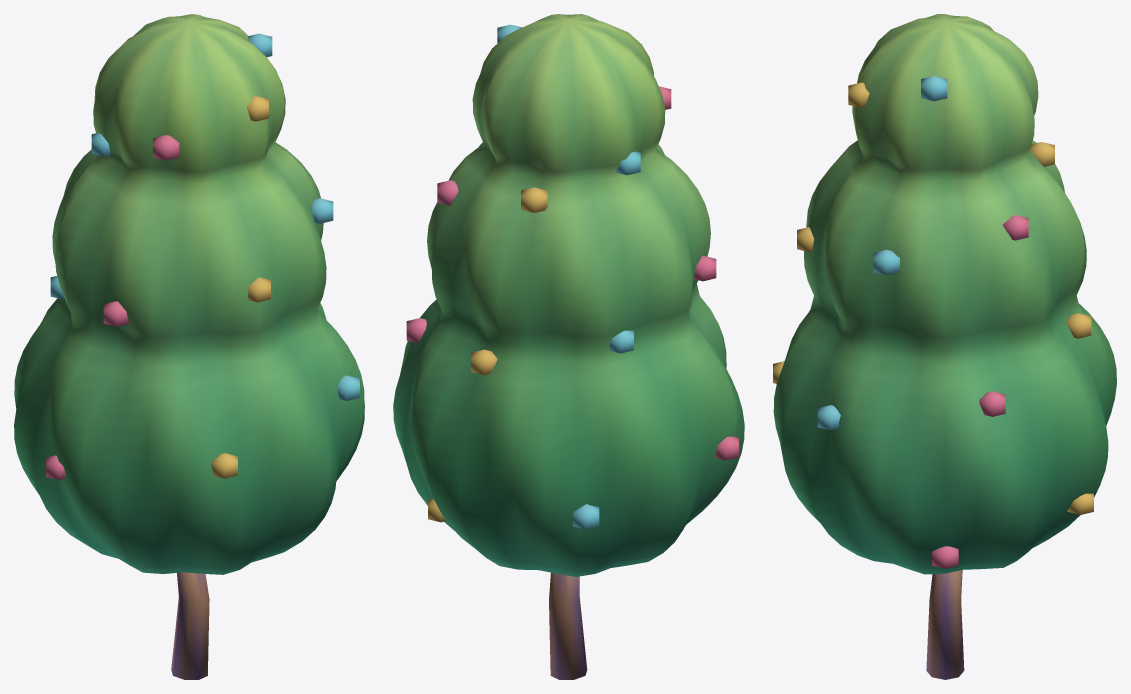
File: verdant_bush_topiary.glb
3 renders of one model, left to right at view 1: azimuth 30°, elevation 25°; view 2: azimuth 150°, elevation 25°; view 3: azimuth 270°, elevation 25°, orthographic.
Visible parts, largest first — view 1: verdant_bush_topiary; view 2: verdant_bush_topiary; view 3: verdant_bush_topiary.
Part boxes in pixels (<box>): verdant_bush_topiary: <box>14,14,364,679</box>; verdant_bush_topiary: <box>393,14,744,679</box>; verdant_bush_topiary: <box>773,14,1116,679</box>.
Bounding box in the file's own units: 1.3 × 2.65 × 1.27.
